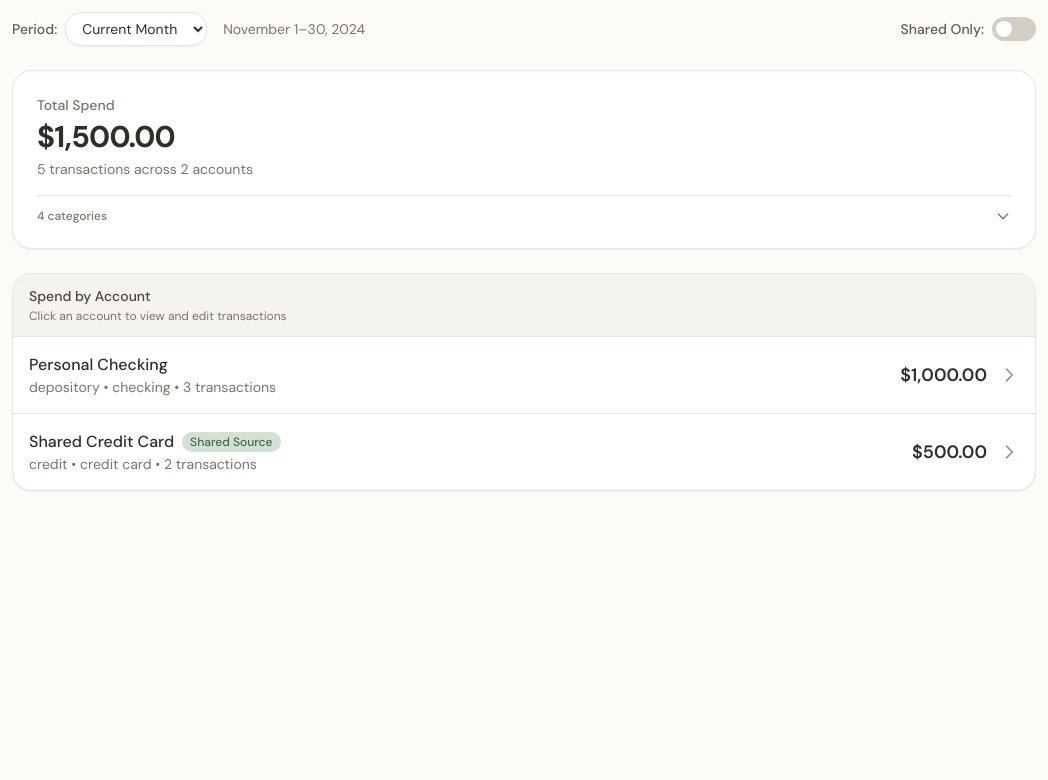
Test case: SpendSummary › Account Accordion › expands account to show transactions when clicked
This screenshot has width=1048, height=780.
Expected: the text "Personal Checking" is shown, [29,353,168,377]
What coordinates should you click on to do the following:
click the button "Personal Checking"
I would click on:
 (98, 364)
Its box is [13,337,1035,413].
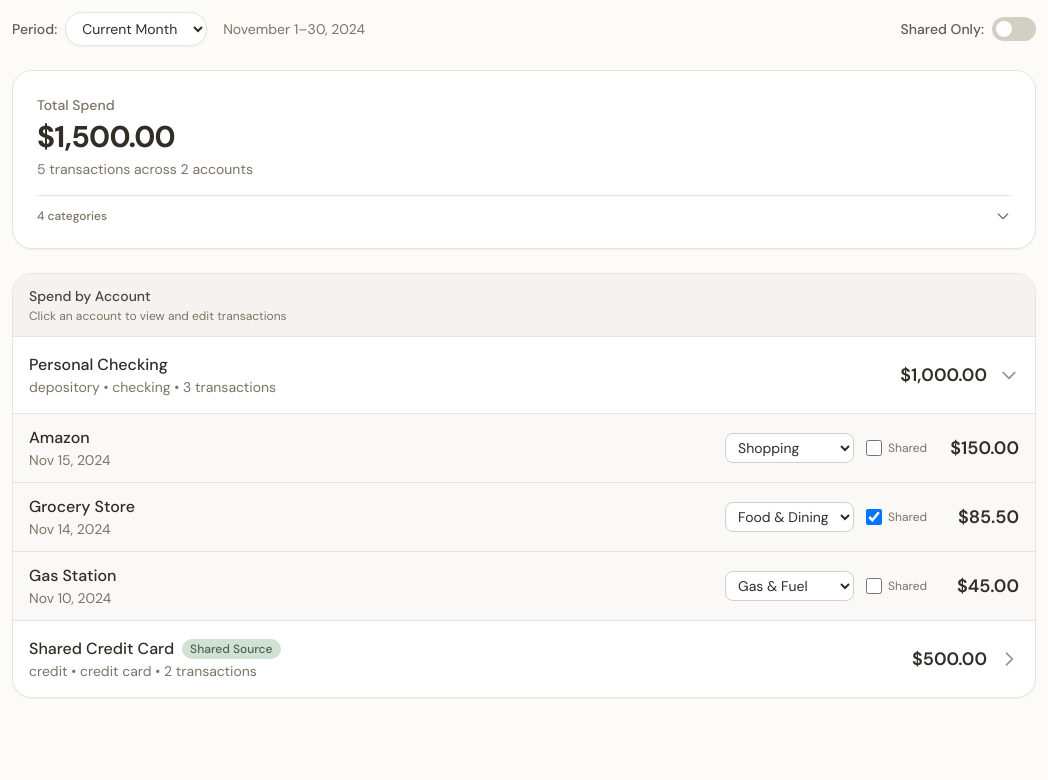
Now the button "Personal Checking" is expanded, box [13,337,1035,413]
Now the text "Amazon" is shown, box [29,427,90,448]
Now the text "Grocery Store" is shown, box [29,496,135,517]
